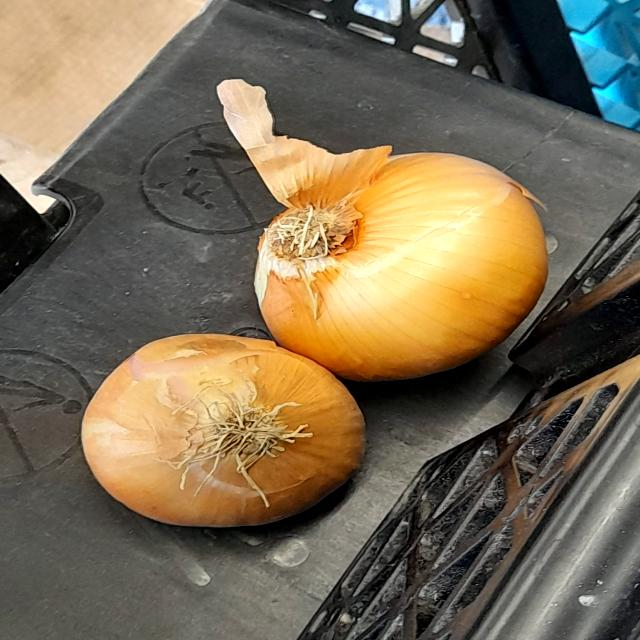onion: (243, 133, 565, 384), (58, 326, 396, 534)
